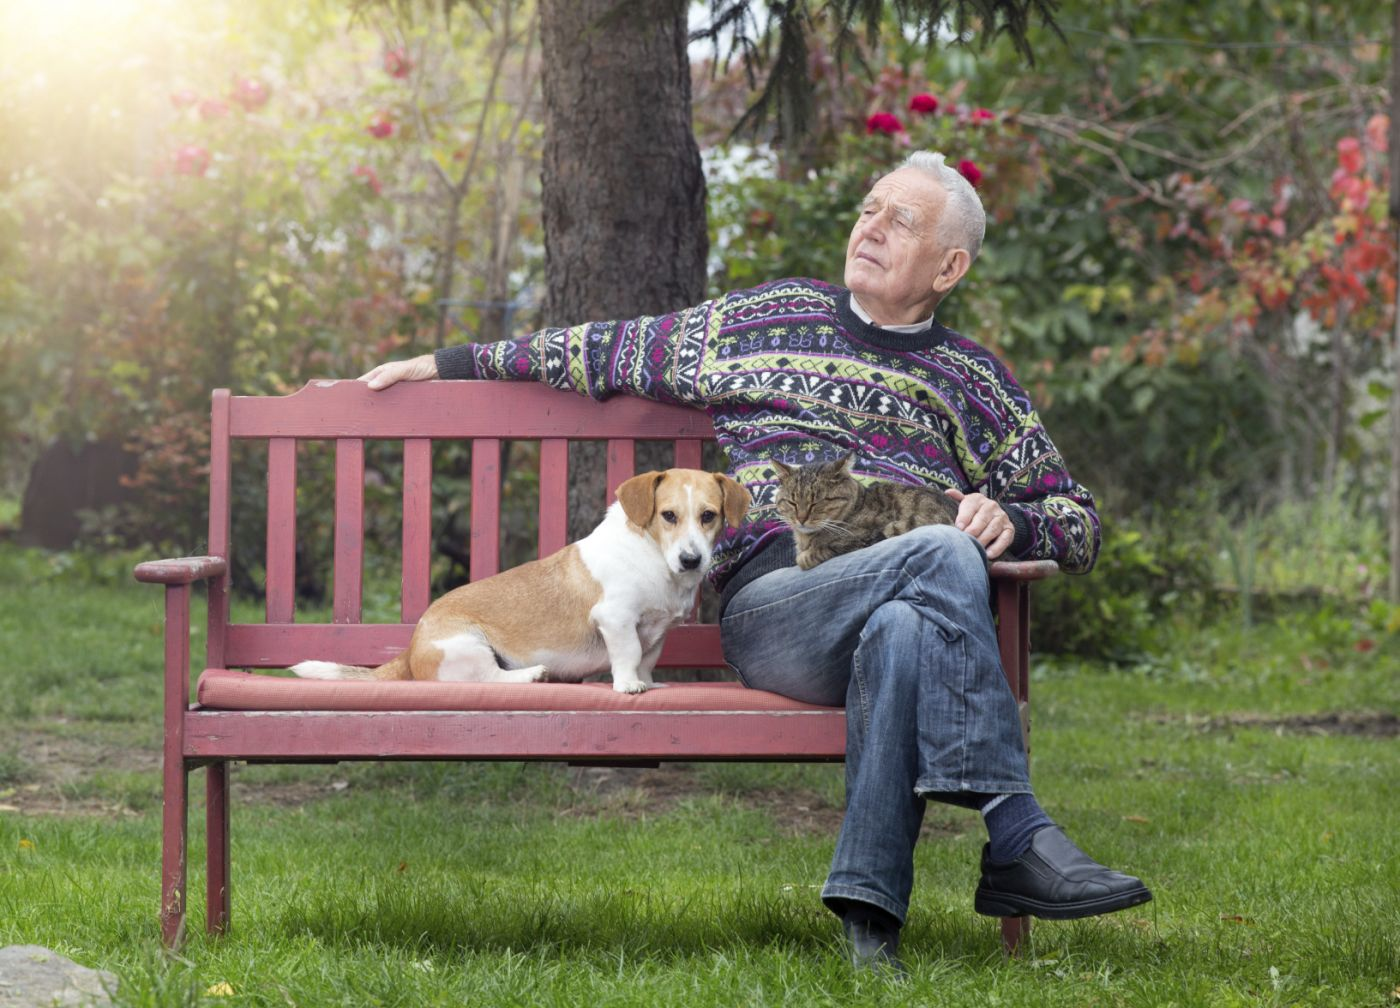Person: (346, 134, 1186, 1008)
